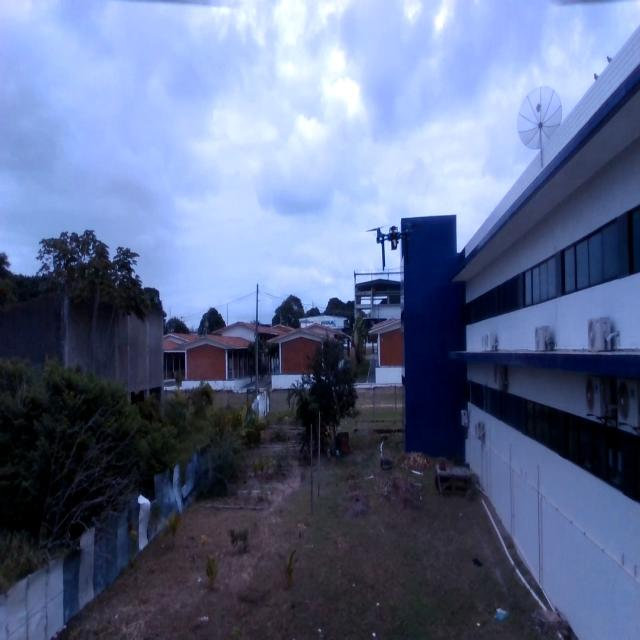-uav-: (362, 206, 426, 278)
